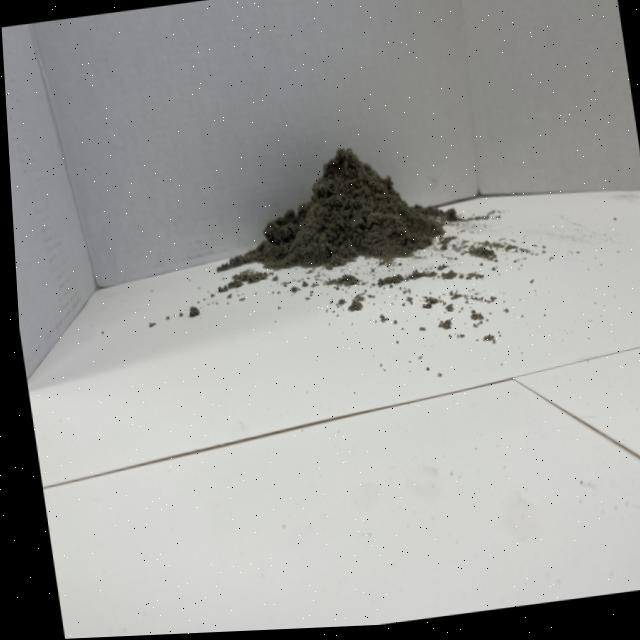sand: (231, 122, 451, 291)
